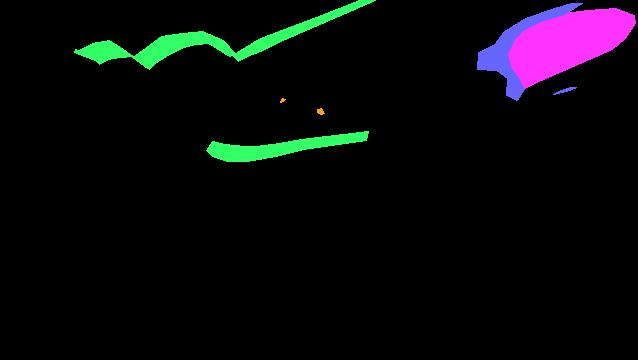Broken part: (232, 0, 375, 61), (206, 131, 368, 161), (132, 31, 235, 69), (74, 40, 133, 64)
Dent: (502, 8, 635, 88)
Paint chip: (317, 108, 324, 114), (280, 98, 285, 102)
Scratch: (477, 3, 582, 100), (553, 87, 576, 94)
